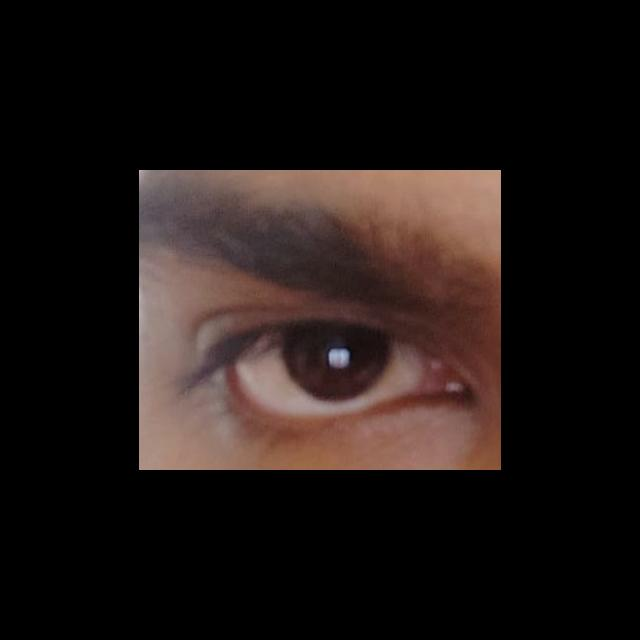eye: (232, 327, 428, 418)
iris: (283, 329, 390, 399)
